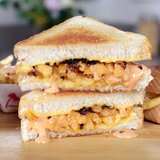slice of bread: (13, 16, 151, 63), (17, 78, 149, 107), (22, 124, 145, 140)
